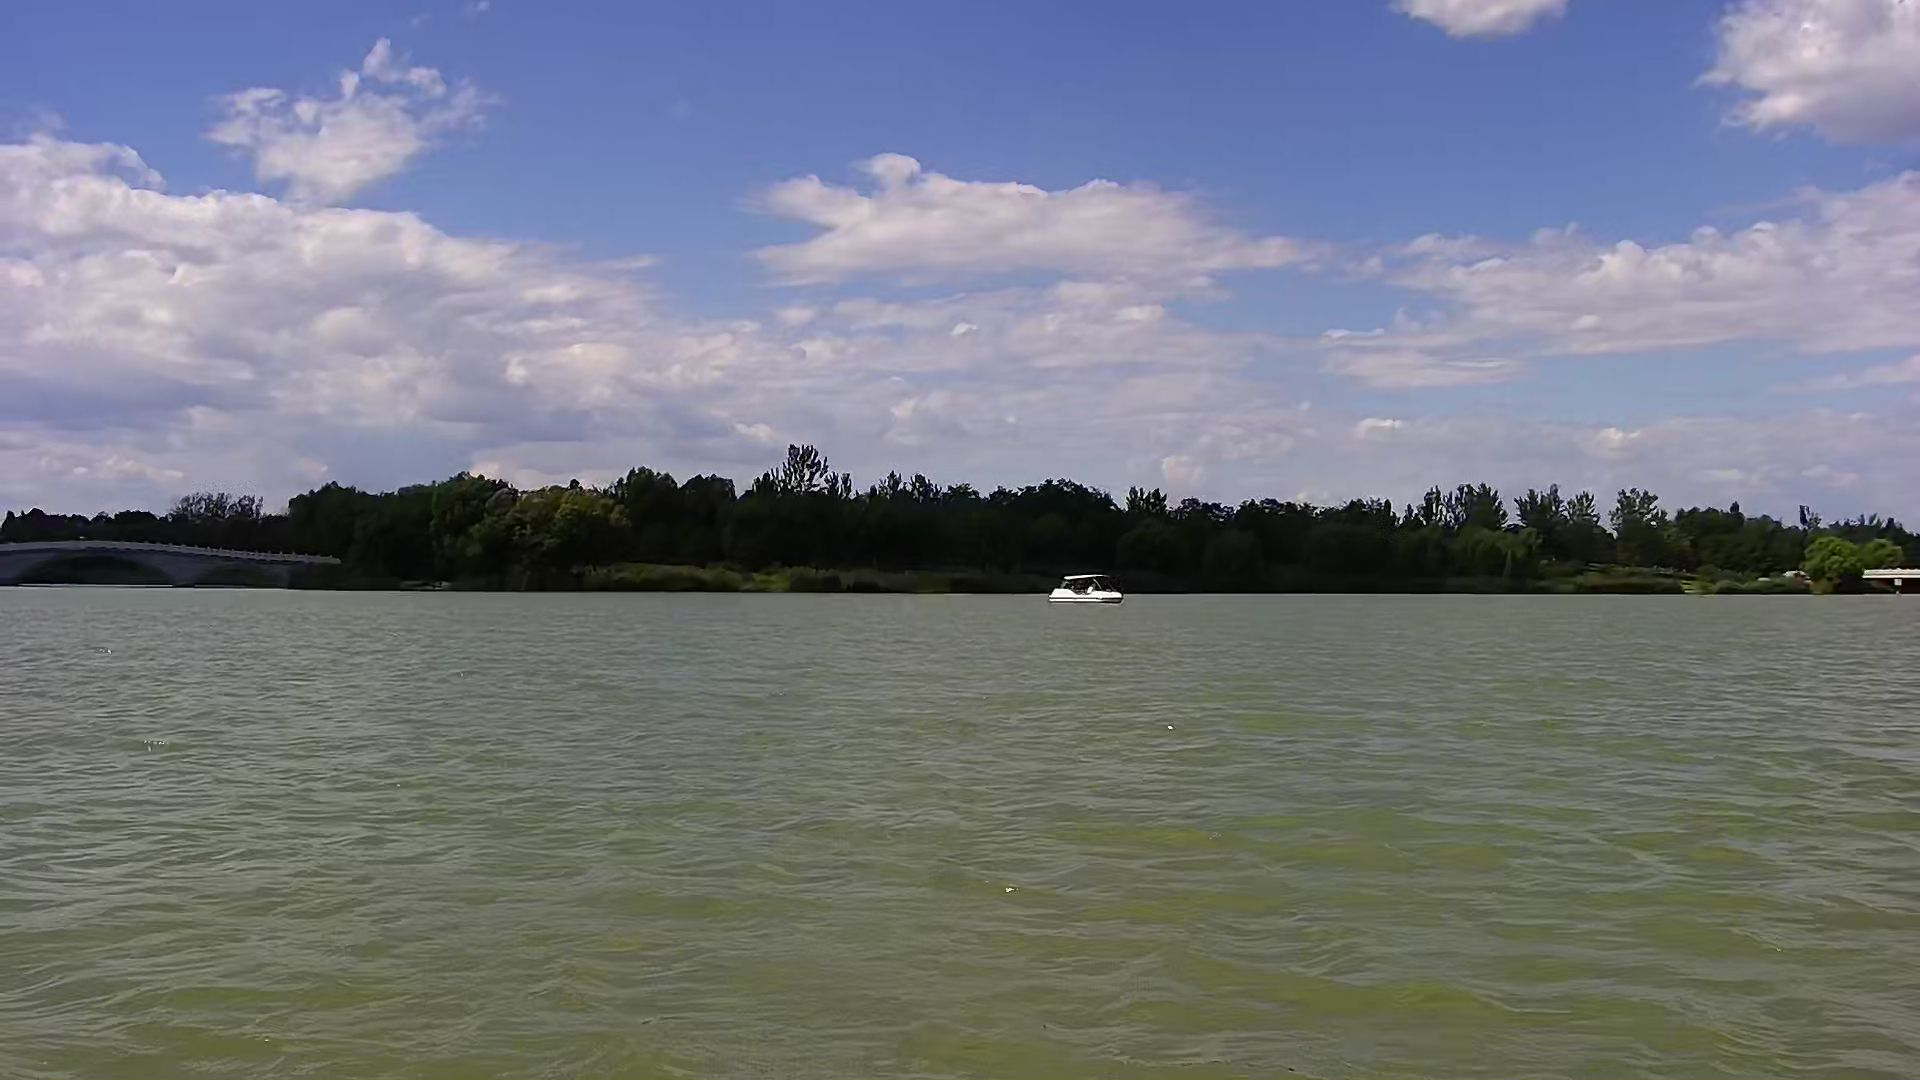boat: (1043, 570, 1125, 608)
bridge: (5, 535, 343, 599)
